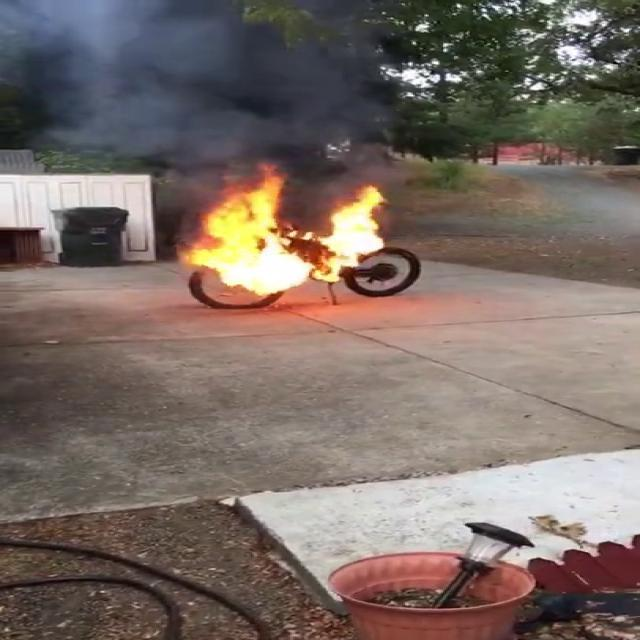Fire: (177, 167, 398, 293)
Smoke: (1, 0, 430, 184)
